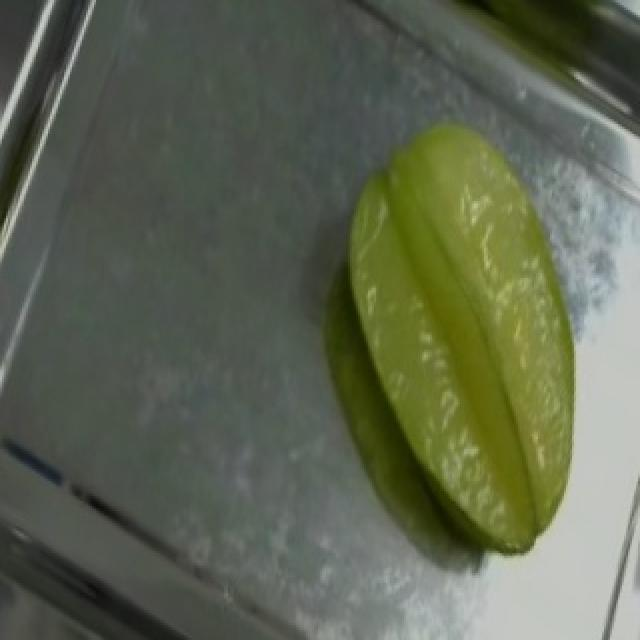fruit: (296, 77, 640, 508)
